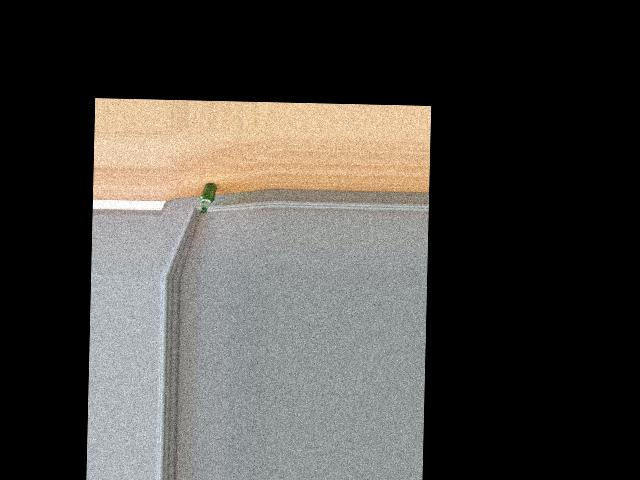beer: (200, 182, 216, 212)
